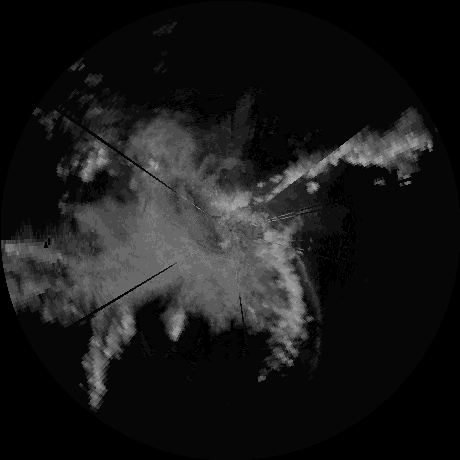frontgust: (296, 256, 322, 351), (262, 203, 282, 226)
